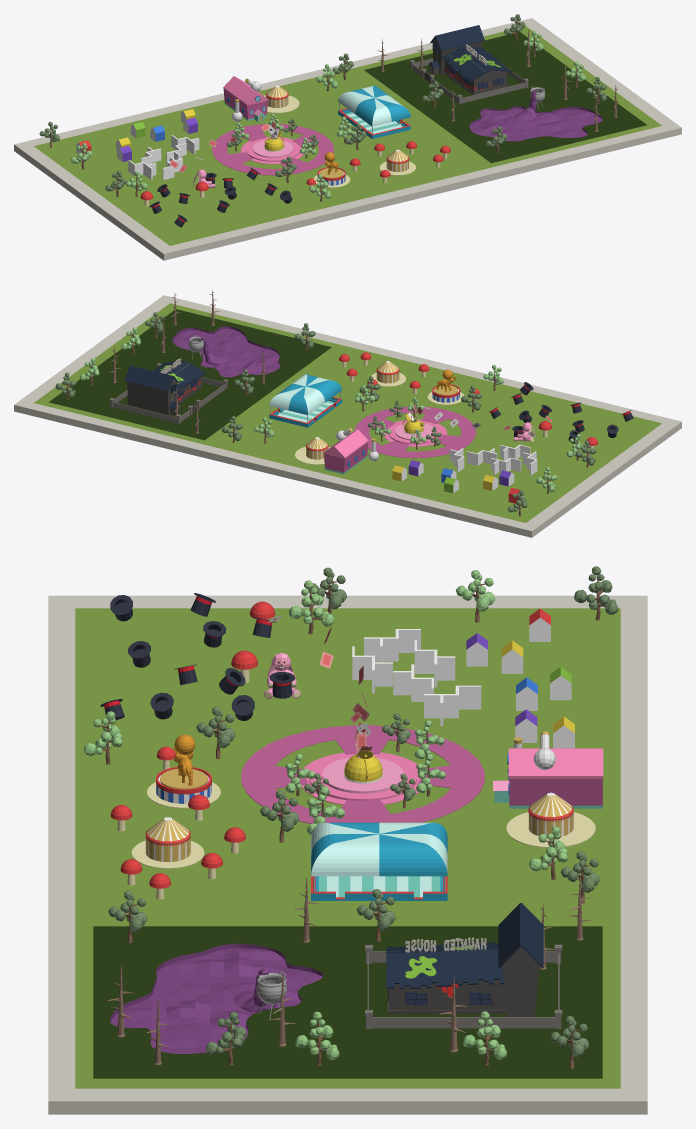
Rendered from D4_Magic_Park.fbx.
3 views of the same model, one above another, from view 1: azimuth 30°, elevation 25°; view 2: azimuth 150°, elevation 25°; view 3: azimuth 270°, elevation 25° (orthographic). The views are drawn at different scales.
Parts seen in each view (by area): view 1: Cube.130, Plane.030, Cylinder.100, Cube.146, Cube.132, Cube.145, Cylinder.099, Cube.133, Cube.134, Cube.136, Cube.135, Cylinder.098 (+3 smaller); view 2: Cube.130, Plane.030, Cylinder.100, Cube.145, Cube.132, Cube.146, Cube.133, Cylinder.099, Cube.134, Cube.135, Cube.136, Cylinder.098 (+3 smaller); view 3: Cube.130, Plane.030, Cylinder.100, Cube.132, Cube.146, Cube.145, Cylinder.099, Cube.133, Cube.136, Cube.134, Cube.135, Cylinder.098 (+26 smaller).
Part boxes in pixels (x1,y1,x2,y2): Cube.130: (14, 18, 681, 260); Plane.030: (469, 108, 602, 141); Cylinder.100: (212, 123, 334, 175); Cube.146: (440, 46, 511, 94); Cube.132: (338, 85, 410, 126); Cube.145: (430, 25, 484, 74); Cylinder.099: (241, 136, 304, 164); Cube.133: (338, 108, 410, 138); Cube.134: (412, 58, 525, 103); Cube.136: (223, 76, 268, 105); Cube.135: (223, 89, 267, 120); Cylinder.098: (386, 149, 409, 172); Cube.130: (14, 295, 681, 537); Plane.030: (172, 328, 279, 377); Cylinder.100: (354, 406, 476, 458); Cube.145: (124, 365, 179, 414); Cube.132: (269, 374, 341, 415); Cube.146: (153, 361, 206, 403); Cube.133: (269, 397, 342, 427); Cylinder.099: (383, 419, 447, 446); Cube.134: (113, 369, 225, 422); Cube.135: (324, 442, 368, 474); Cube.136: (323, 429, 368, 458); Cylinder.098: (376, 361, 399, 383); Cube.130: (48, 595, 647, 1114); Plane.030: (110, 948, 322, 1053); Cylinder.100: (241, 725, 484, 823); Cube.132: (311, 822, 447, 876); Cube.146: (386, 942, 506, 1014); Cube.145: (498, 903, 543, 1016); Cylinder.099: (301, 752, 419, 804); Cube.133: (311, 876, 447, 900); Cube.136: (508, 748, 603, 778); Cube.134: (367, 951, 559, 1028); Cube.135: (509, 778, 602, 808); Cylinder.098: (145, 817, 190, 861).
Size of the model in its own units: 20850 by 1677 by 10450.
24 materials, 11 textured.
